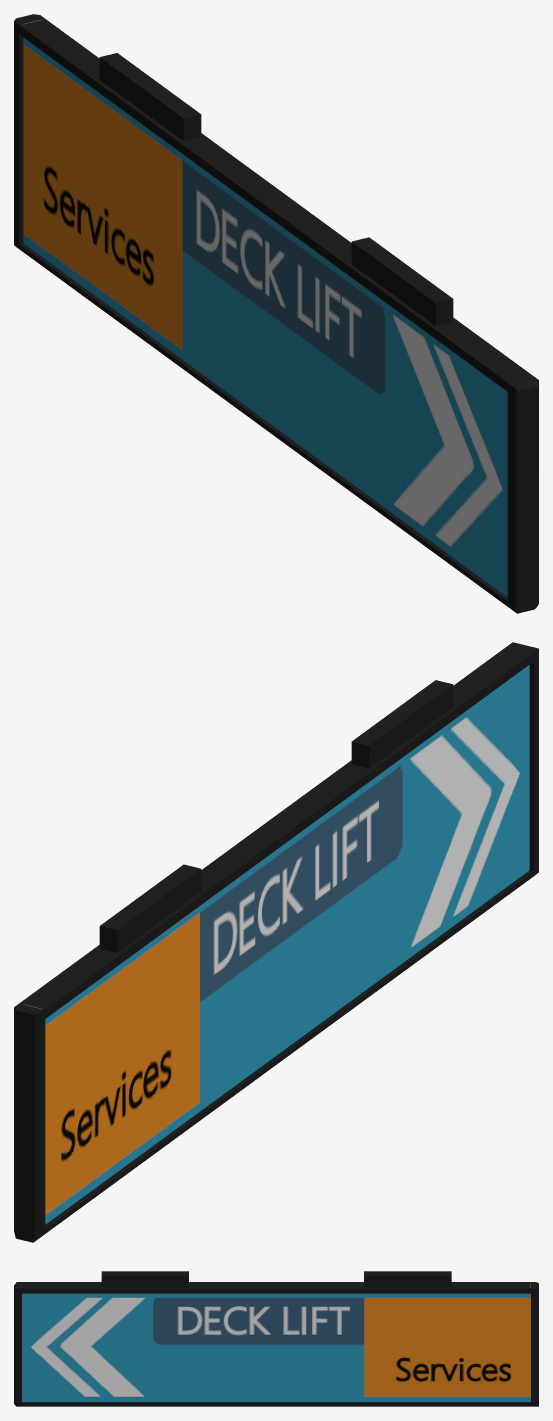
File: SSCSignage1.fbx
3 views of the same model, one above another, from view 1: azimuth 30°, elevation 25°; view 2: azimuth 150°, elevation 25°; view 3: azimuth 270°, elevation 25° (orthographic). The views are drawn at different scales.
Visible parts, largest first — view 1: SSCSignage1; view 2: SSCSignage1; view 3: SSCSignage1.
Boxes of the visible parts, bbox=[...] form: SSCSignage1: bbox=[14, 14, 538, 613]; SSCSignage1: bbox=[14, 642, 538, 1242]; SSCSignage1: bbox=[14, 1271, 538, 1406].
Bounding box in the file's own units: 6 × 55 × 200.
